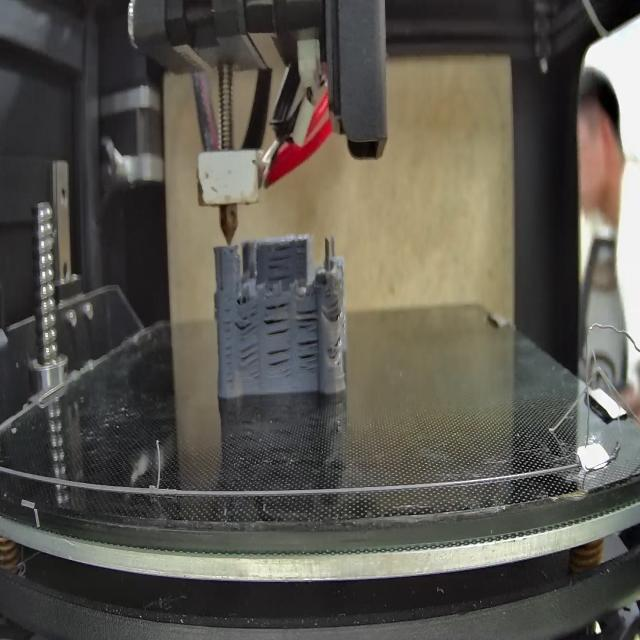cracks: (268, 238, 294, 285), (264, 302, 292, 337), (264, 346, 291, 381), (222, 312, 234, 383), (299, 338, 320, 376), (238, 338, 258, 375), (234, 305, 257, 335), (294, 307, 320, 332), (327, 294, 342, 322), (331, 334, 343, 352), (219, 278, 226, 297)
